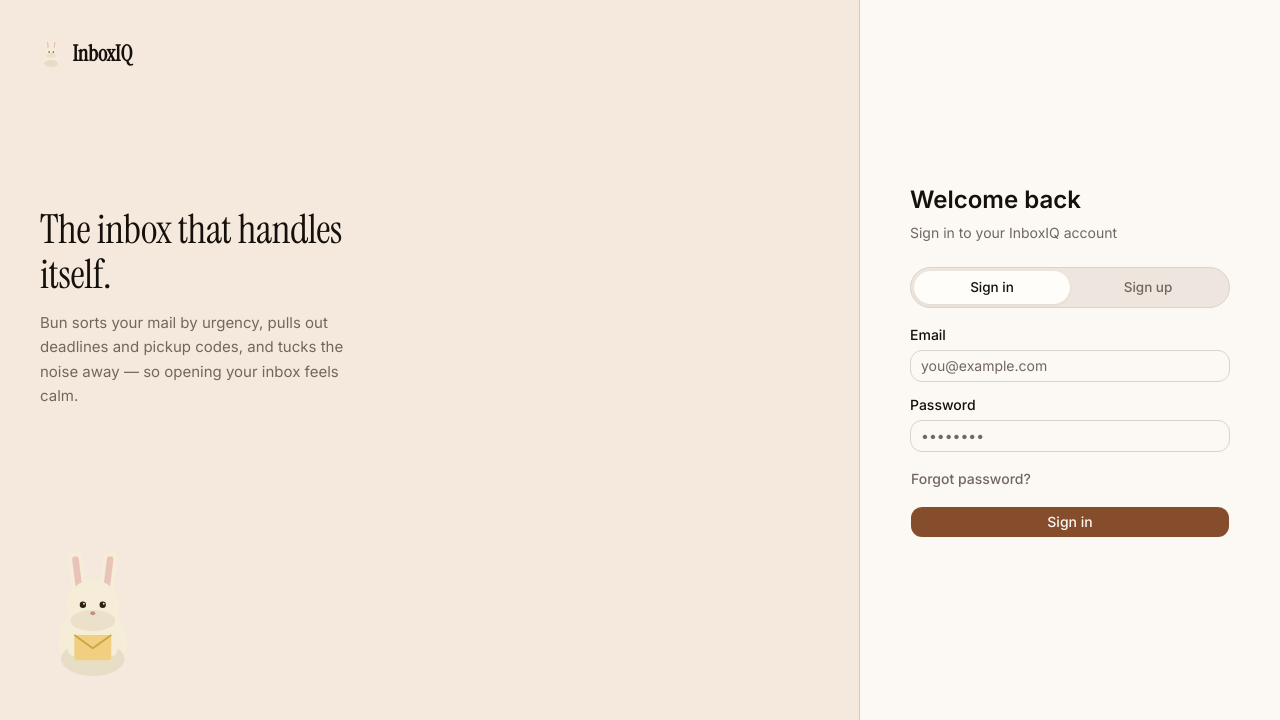
it: SignInPage › shows forgot password form when link is clicked
This screenshot has width=1280, height=720.
Click the button "Forgot password?". click: [971, 479]
box: x1=910 y1=468 x2=1032 y2=490
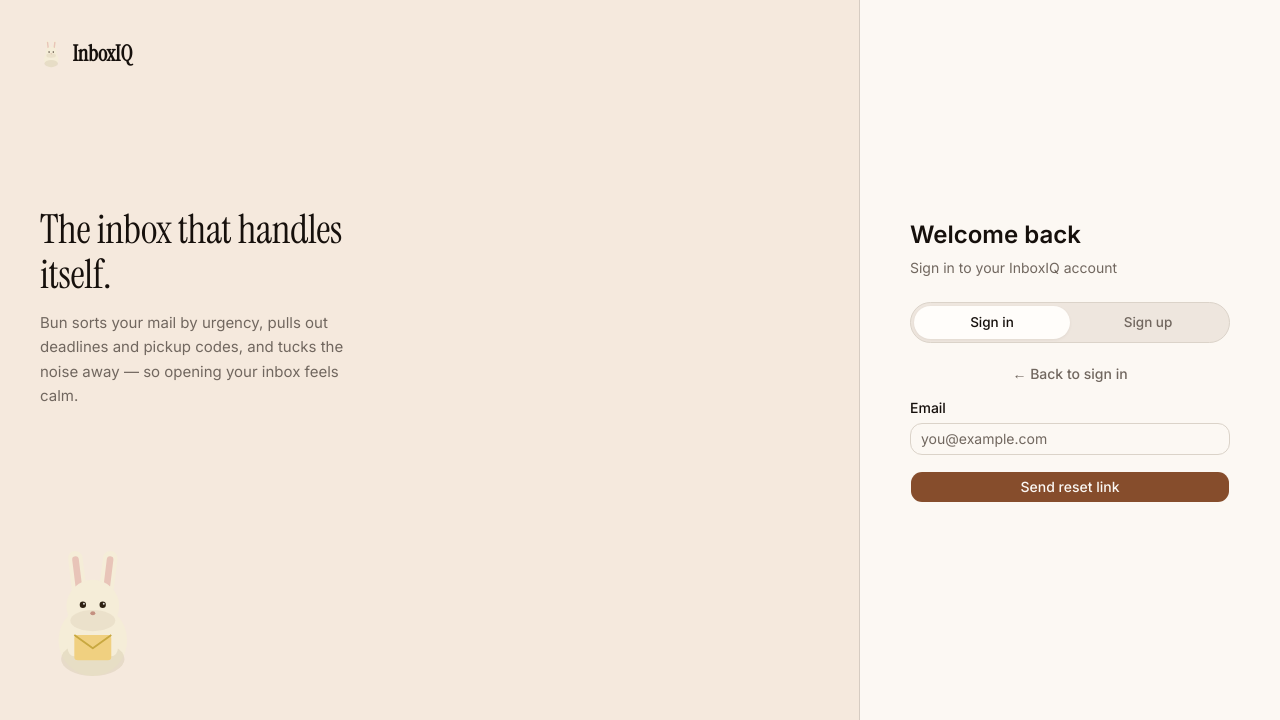
Expected: the button "← Back to sign in" is shown, x1=910 y1=363 x2=1230 y2=385
Expected: the button "Send reset link" is shown, x1=910 y1=471 x2=1230 y2=503
